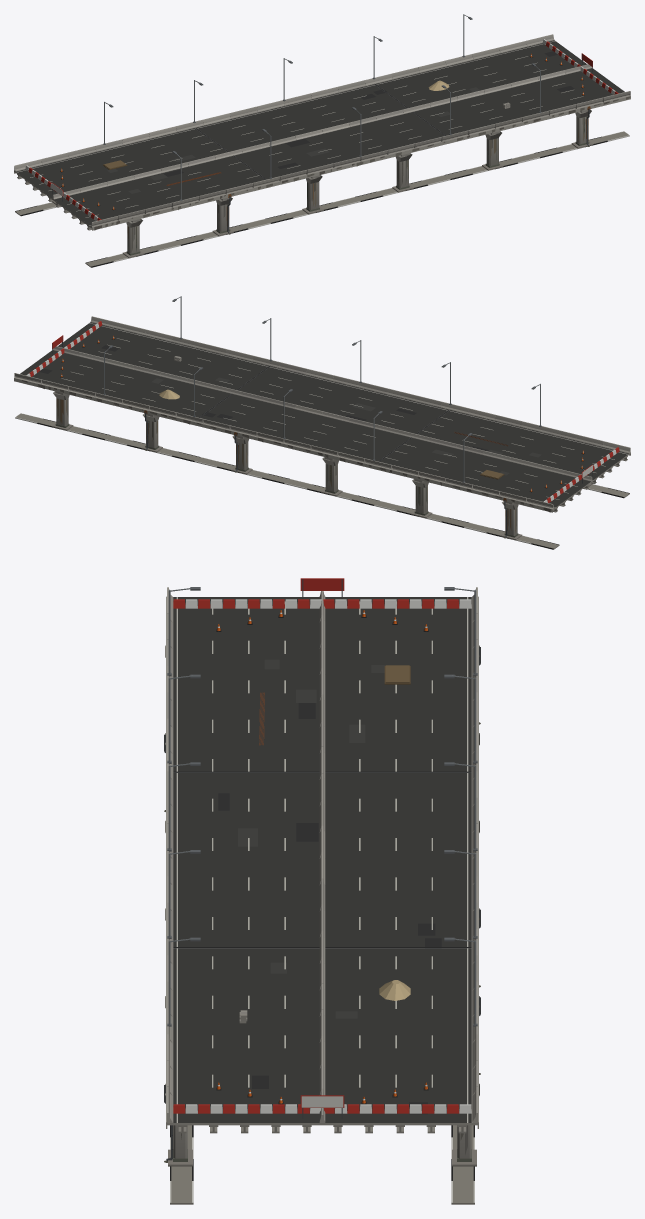
The model's file is ns_flyover.glb.
3 views of the same model, one above another, from view 1: azimuth 30°, elevation 25°; view 2: azimuth 150°, elevation 25°; view 3: azimuth 270°, elevation 25° (orthographic). The views are drawn at different scales.
Parts seen in each view (by area): view 1: ns_flyover; view 2: ns_flyover; view 3: ns_flyover.
Boxes of the visible parts, x1,y1,x2,y2 form: ns_flyover: (14,14,630,267); ns_flyover: (14,296,630,549); ns_flyover: (164,578,480,1204).
Size of the model in its own units: 120 by 18.99 by 30.6.
